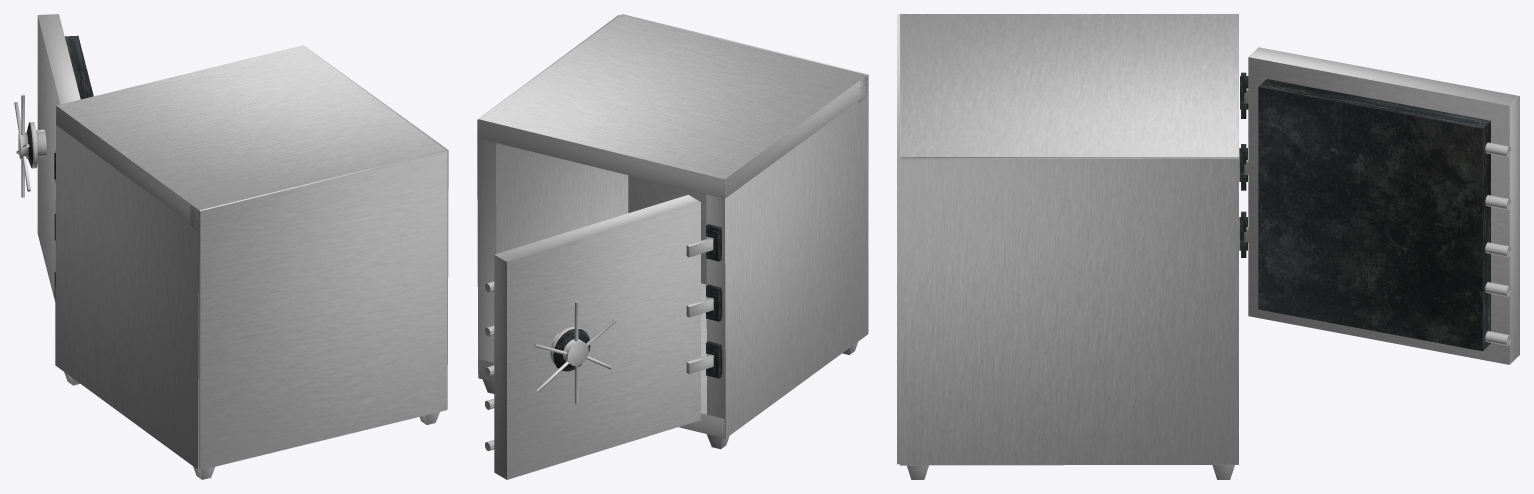
File: valut.fbx
The picture shows the model from 3 angles, left to right: view 1: azimuth 30°, elevation 25°; view 2: azimuth 150°, elevation 25°; view 3: azimuth 270°, elevation 25°; orthographic projection. The views are drawn at different scales.
Parts seen in each view (by area): view 1: vaultBox, door; view 2: vaultBox, door; view 3: vaultBox, door.
Boxes of the visible parts, box(x1,y1,x2,y2) form: vaultBox: box(54, 45, 448, 479); door: box(14, 14, 93, 301); vaultBox: box(477, 14, 868, 449); door: box(485, 194, 713, 479); vaultBox: box(897, 14, 1248, 479); door: box(1244, 47, 1519, 364).
Size of the model in its own units: 51.26 by 53.8 by 93.07.
Materials: 5 (3 with a texture image).
